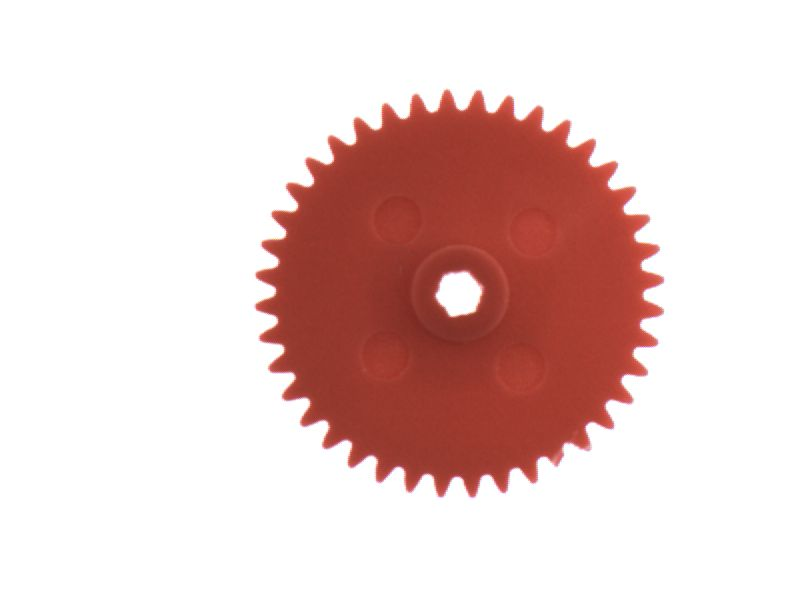defect_break: (535, 443, 580, 479)
